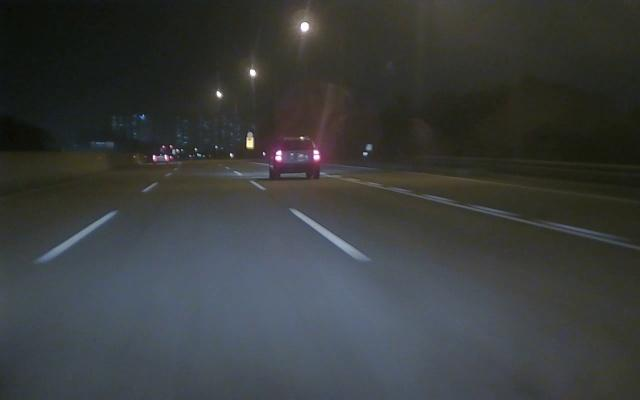lane: (361, 181, 638, 252), (20, 183, 155, 268), (253, 181, 374, 261)
